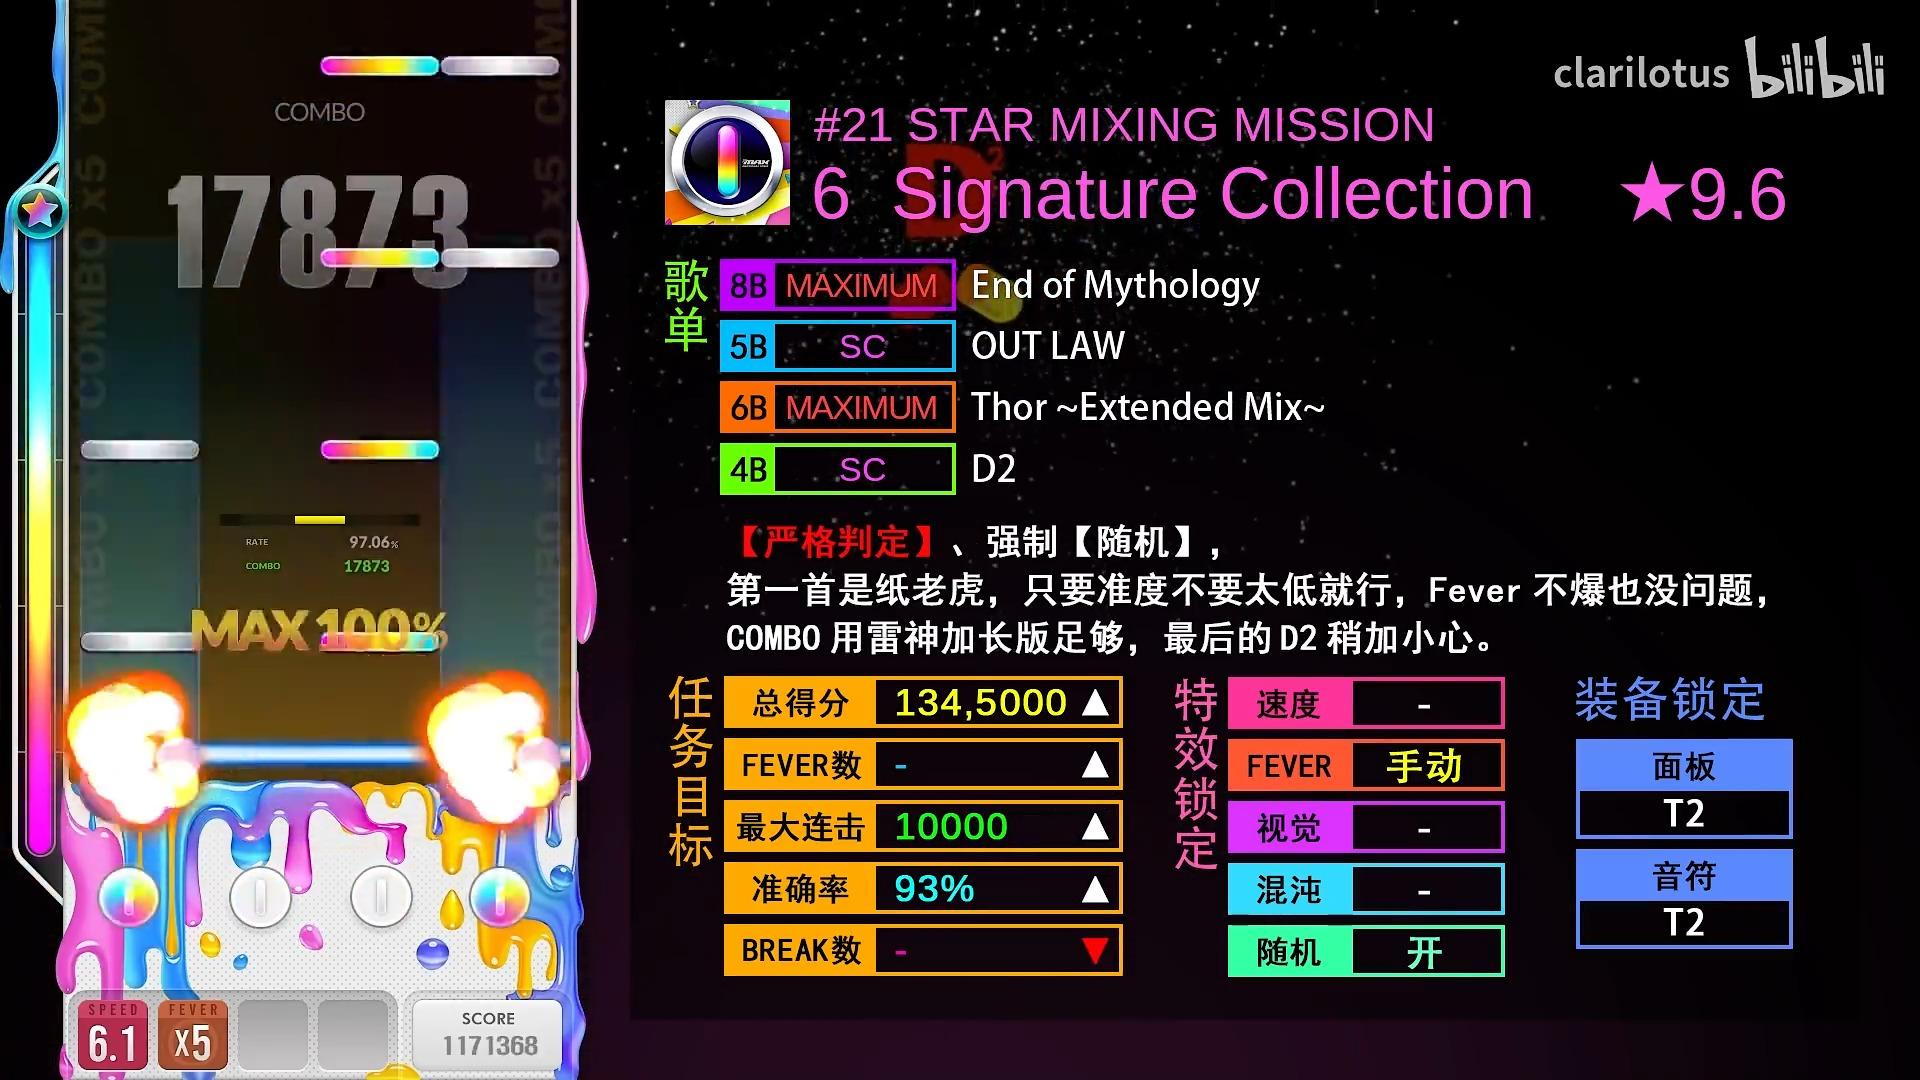note: (80, 630, 202, 653), (319, 630, 440, 653), (440, 247, 559, 269), (80, 439, 199, 462), (319, 55, 440, 76), (440, 55, 560, 76), (319, 248, 439, 269), (320, 439, 439, 460)
